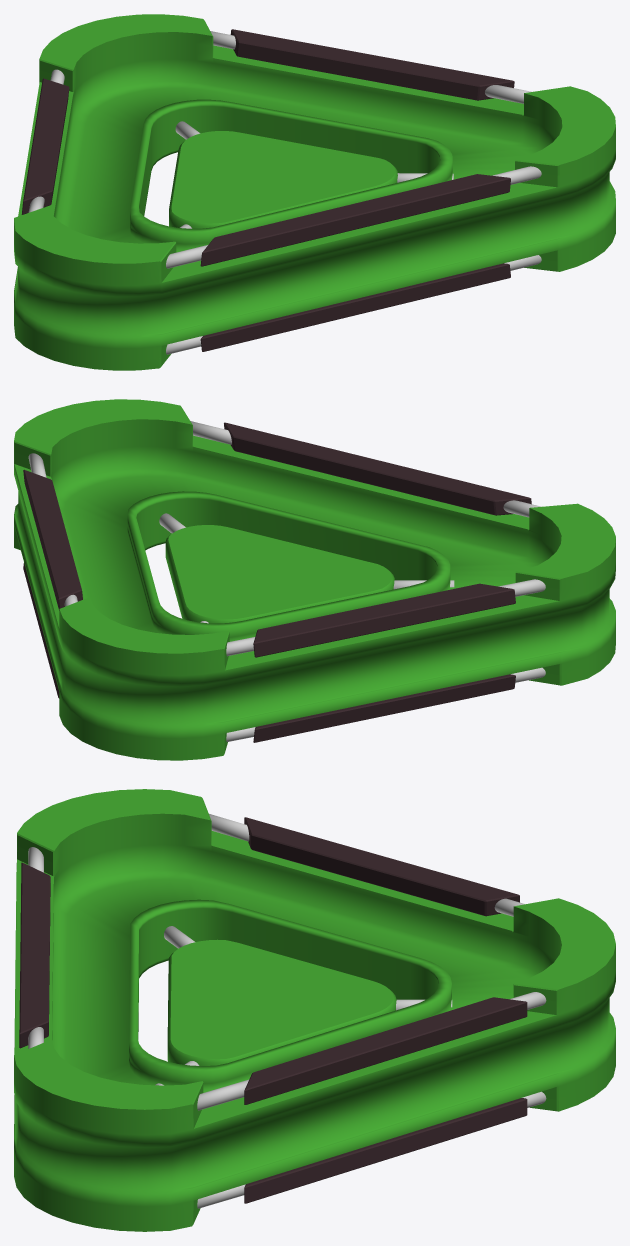
File: boxgreen03fbx.fbx
3 views of the same model, one above another, from view 1: azimuth 30°, elevation 25°; view 2: azimuth 150°, elevation 25°; view 3: azimuth 270°, elevation 25° (orthographic). The views are drawn at different scales.
Parts seen in each view (by area): view 1: Cube.001; view 2: Cube.001; view 3: Cube.001.
Boxes of the visible parts, left/top/right/bottom form: Cube.001: left=14, top=14, right=615, bottom=370; Cube.001: left=14, top=399, right=615, bottom=760; Cube.001: left=14, top=789, right=615, bottom=1231.
Bounding box in the file's own units: 580 × 103 × 460.
